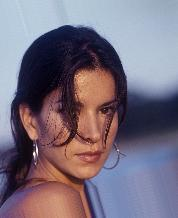face: (55, 96, 116, 164)
